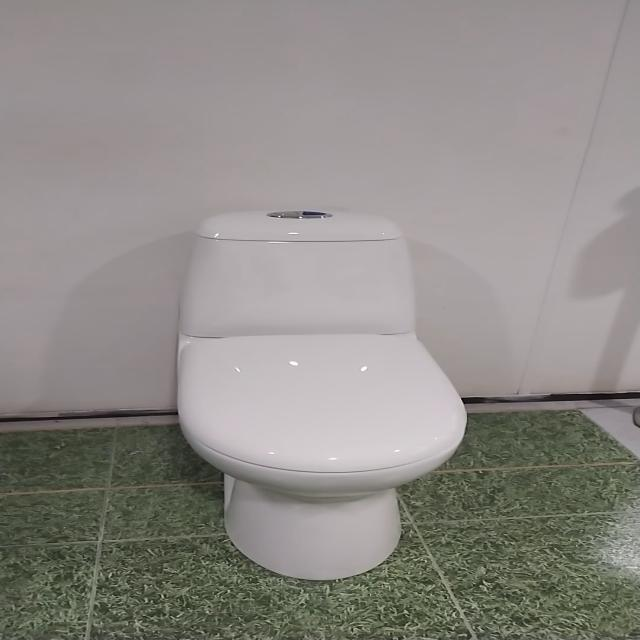toilet: (174, 208, 468, 581)
